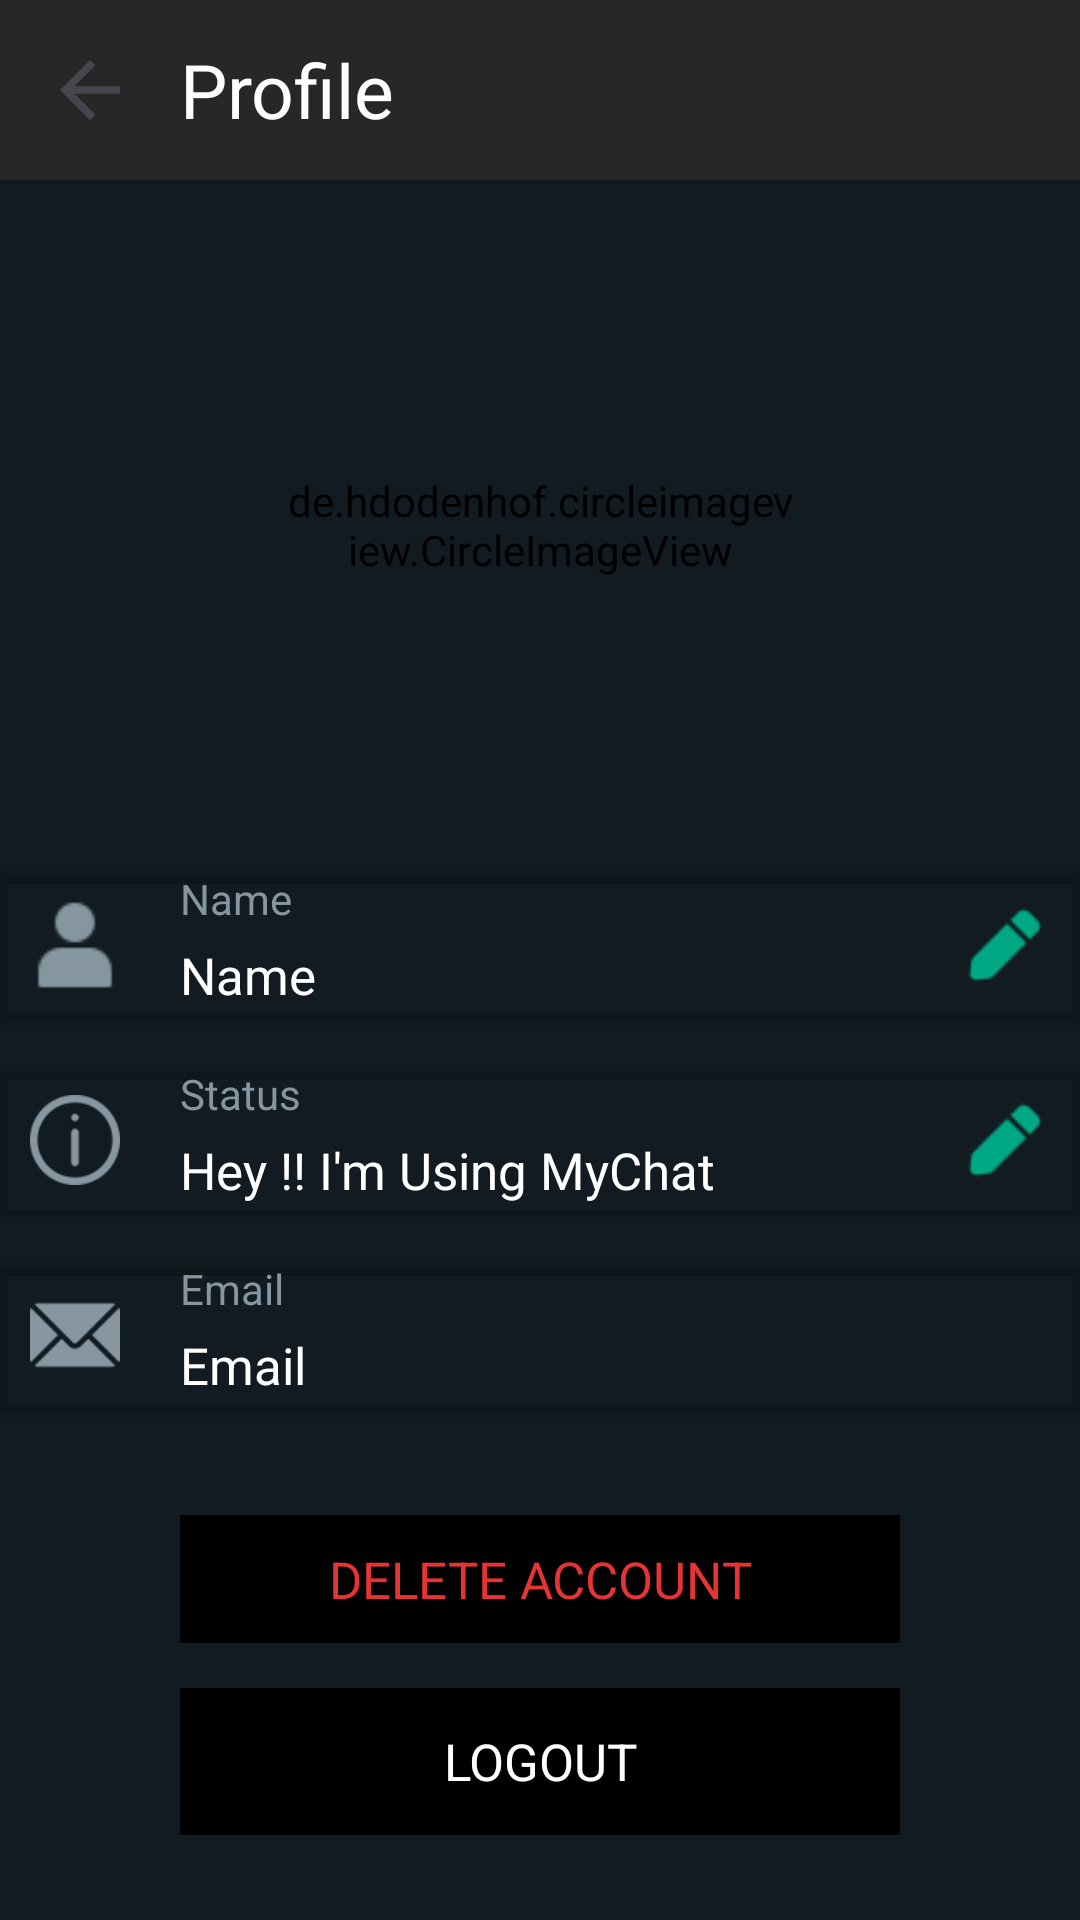

Icons on this 1080*1920 Android screen, each with the point to tap as [x,y]:
about: [75,1140]
edit: [1005,945], [1005,1140]
user: [75,945]
